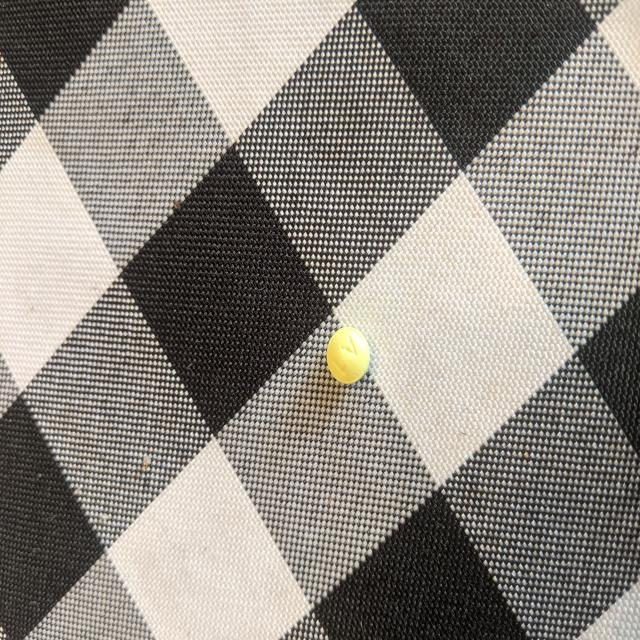non-organic waste: (326, 326, 371, 386)
